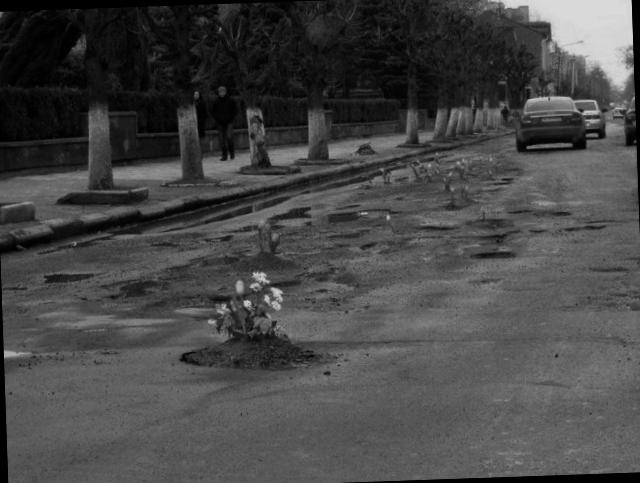Pothole: (174, 313, 334, 396), (226, 243, 308, 287), (456, 233, 548, 270), (350, 222, 428, 253), (457, 205, 508, 232)
